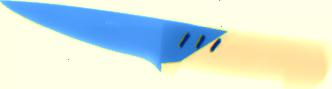Knife: (1, 1, 330, 89)
